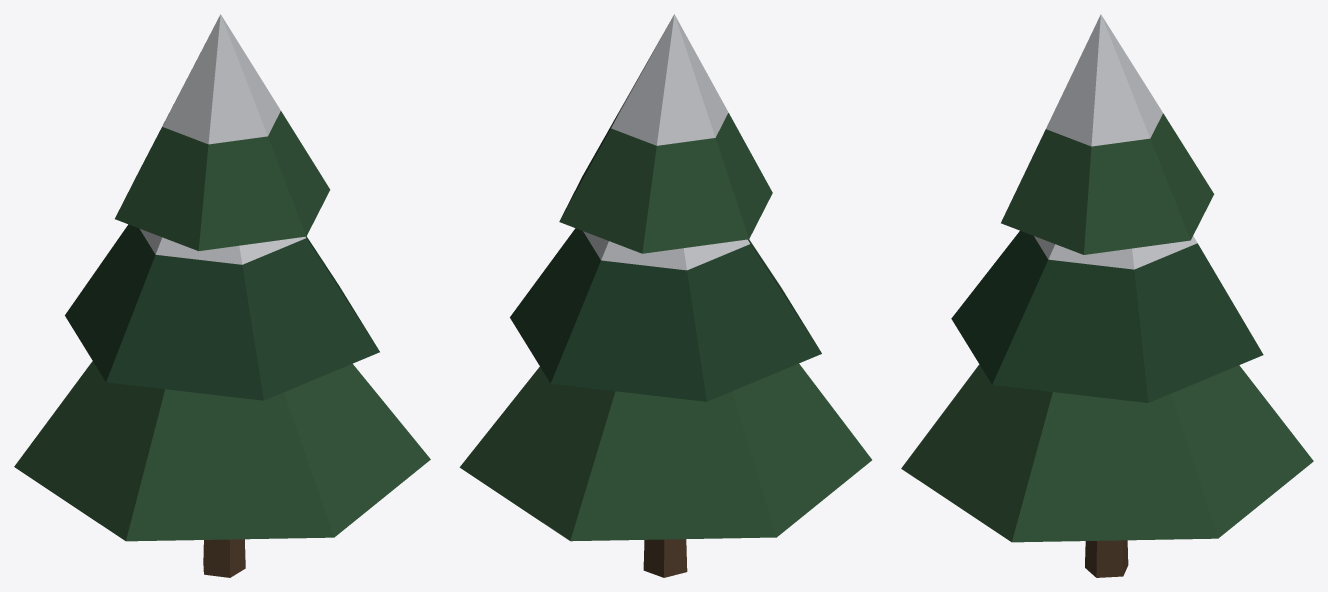
File: Low Poly - Snowy Pine-CF7WFZBE.glb
3 views of the same model, side by side, from view 1: azimuth 30°, elevation 25°; view 2: azimuth 150°, elevation 25°; view 3: azimuth 270°, elevation 25° (orthographic).
Parts seen in each view (by area): view 1: body; view 2: body; view 3: body.
Part boxes in pixels (x1,y1,x2,y2): body: [14, 14, 430, 577]; body: [459, 14, 871, 577]; body: [901, 14, 1313, 577].
Size of the model in its own units: 1.43 by 2.38 by 1.61.
